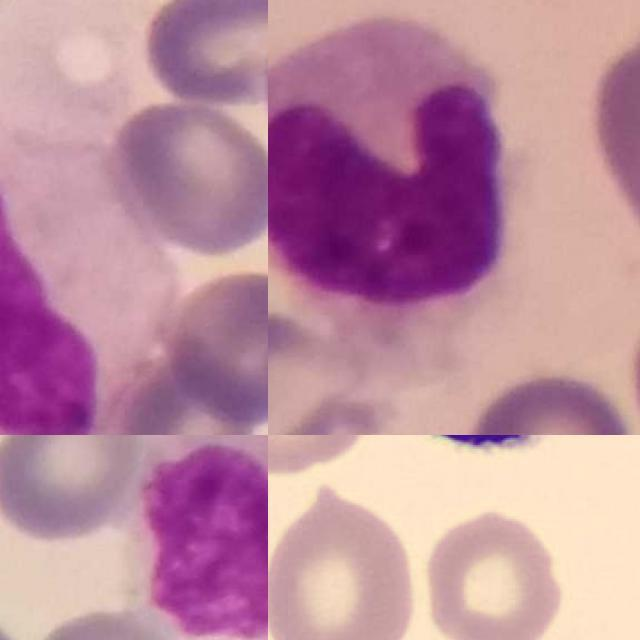Monocyte: (268, 10, 506, 305), (0, 119, 174, 435), (137, 435, 268, 640)
RBC: (268, 475, 425, 640), (418, 505, 569, 640), (268, 435, 375, 478)
